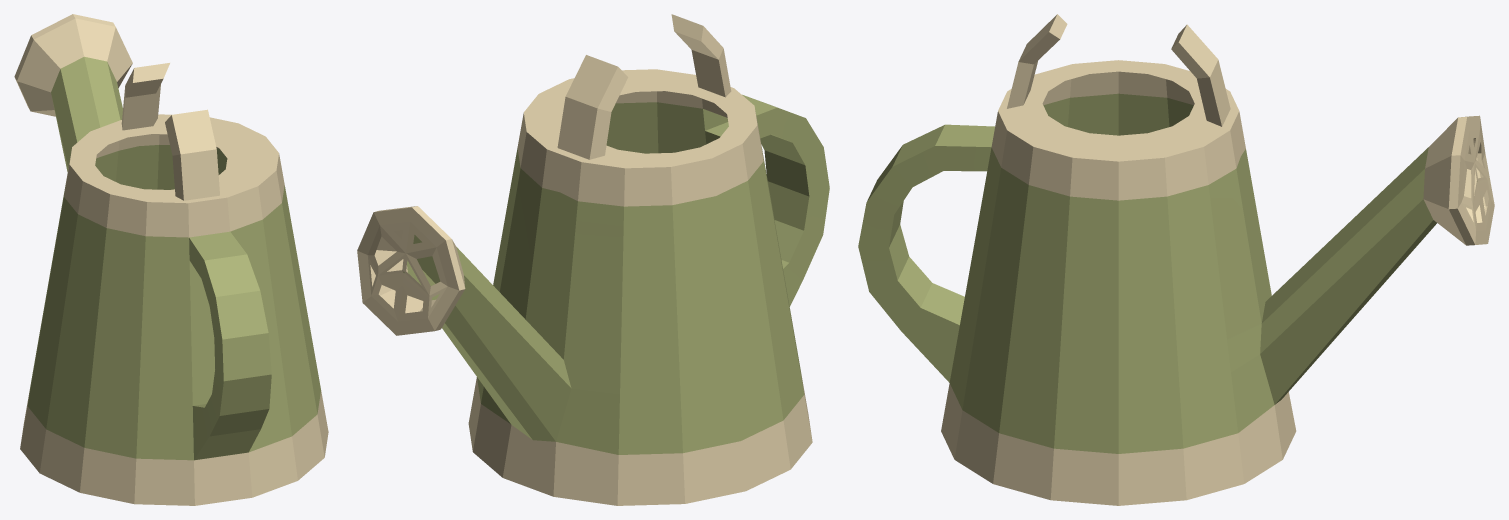
The model's file is water can.fbx.
3 views of the same model, side by side, from view 1: azimuth 30°, elevation 25°; view 2: azimuth 150°, elevation 25°; view 3: azimuth 270°, elevation 25° (orthographic). The views are drawn at different scales.
Visible parts, largest first — view 1: water can; view 2: water can; view 3: water can.
Part boxes in pixels (x1,y1,x2,y2): water can: (14, 14, 328, 505); water can: (357, 14, 829, 505); water can: (858, 14, 1494, 505).
Size of the model in its own units: 48.7 by 61.02 by 87.7.
